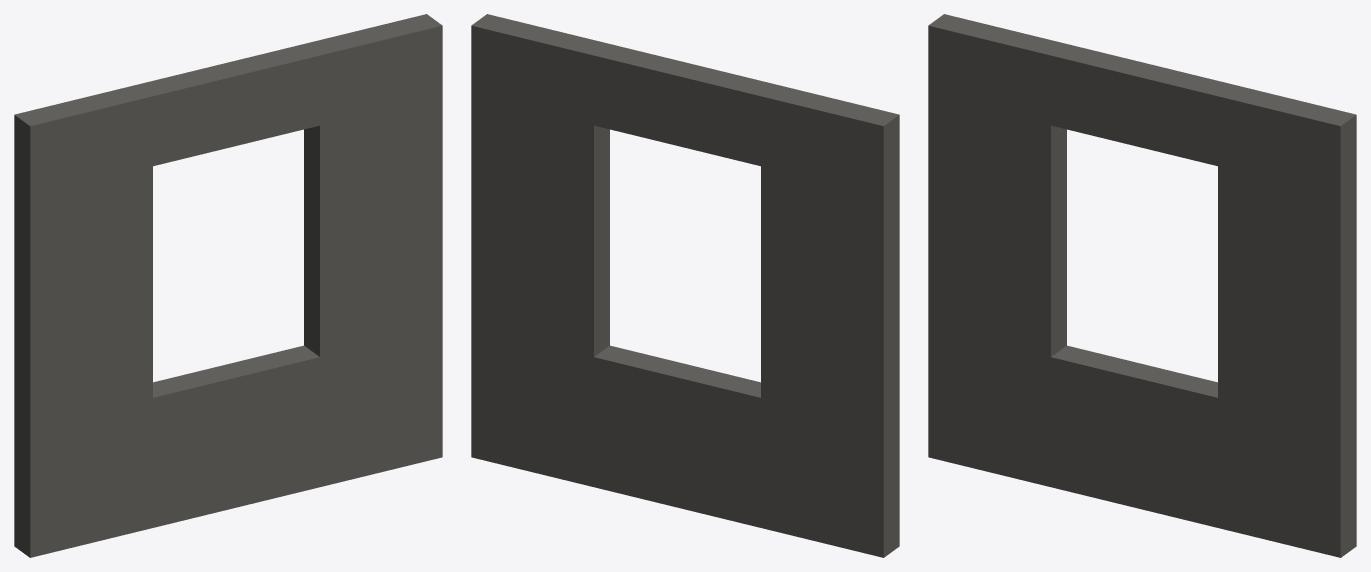
Rendered from SM_Window.fbx.
3 renders of one model, left to right at view 1: azimuth 30°, elevation 25°; view 2: azimuth 150°, elevation 25°; view 3: azimuth 330°, elevation 25°, orthographic.
Visible parts, largest first — view 1: SM_Window; view 2: SM_Window; view 3: SM_Window.
Part boxes in pixels (x1,y1,x2,y2): SM_Window: (14, 14, 442, 557); SM_Window: (471, 14, 899, 557); SM_Window: (928, 14, 1356, 557).
Size of the model in its own units: 300 by 300 by 20.
